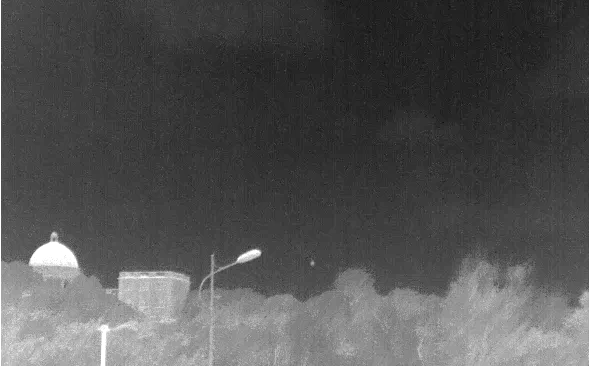dim target: (308, 259, 315, 267)
